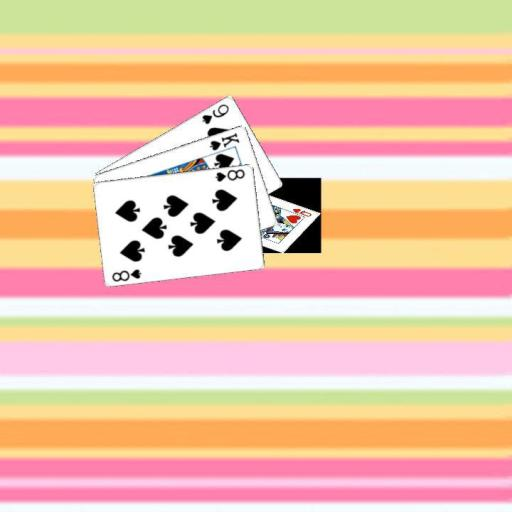8S: (109, 265, 143, 283), (212, 166, 247, 183)
9S: (199, 100, 231, 125)
KS: (206, 130, 241, 152)
